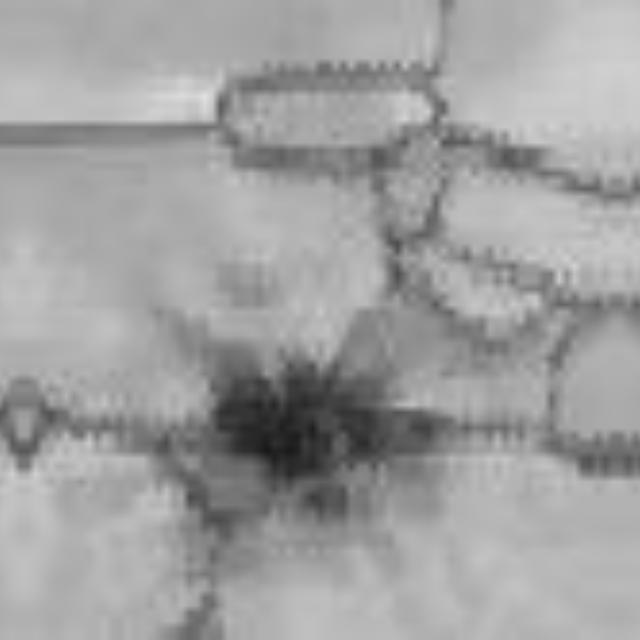good_void: (166, 307, 443, 520)
